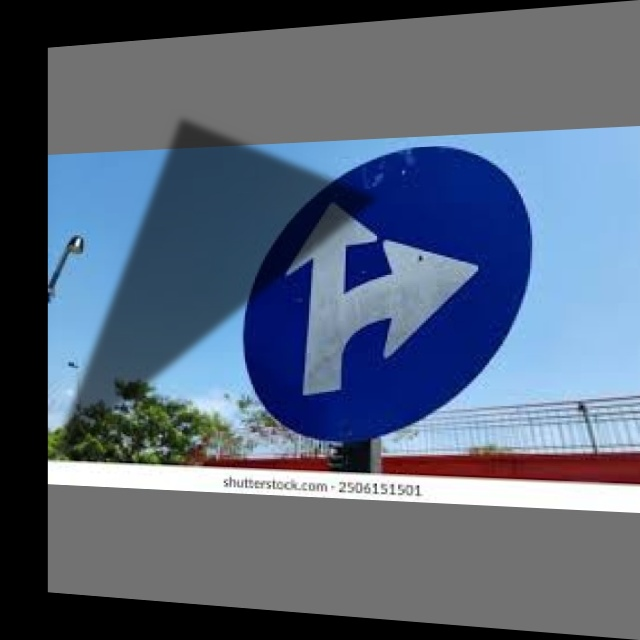Compulsory_Ahead_or_Turn_Right: (248, 154, 521, 453)
